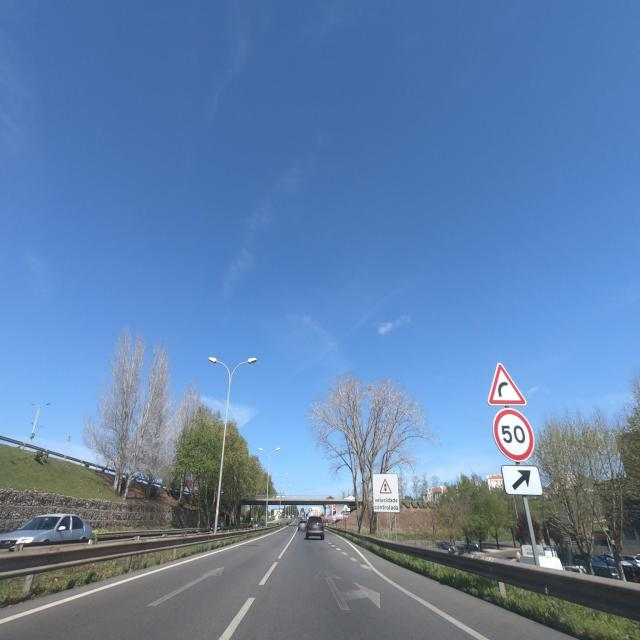car: (0, 512, 97, 554), (304, 515, 324, 540), (212, 522, 225, 532), (297, 519, 307, 531), (253, 521, 259, 528)
